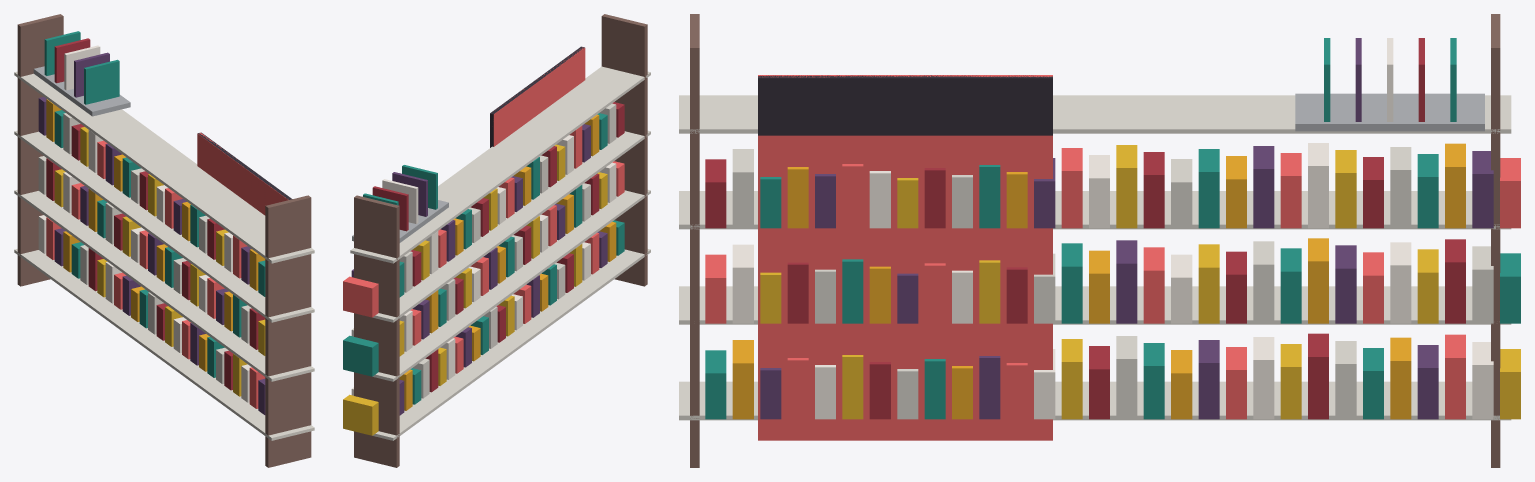
The model's file is record_wall_shelf.glb.
3 views of the same model, side by side, from view 1: azimuth 30°, elevation 25°; view 2: azimuth 150°, elevation 25°; view 3: azimuth 270°, elevation 25° (orthographic). The views are drawn at different scales.
Parts seen in each view (by area): view 1: upright_-1900, shelf_3, upright_1900, shelf_1, shelf_0, shelf_2, poster_panel, display_lp_0, display_row, display_lp_4, display_lp_3, display_lp_2 (+75 smaller); view 2: shelf_3, upright_1900, upright_-1900, shelf_1, shelf_0, shelf_2, poster_panel, spine_0_29, spine_2_29, spine_1_29, display_lp_2, display_lp_3 (+60 smaller); view 3: poster_panel, poster_band, shelf_3, display_row, shelf_0, shelf_2, shelf_1, upright_-1900, upright_1900, spine_1_15, spine_0_15, spine_2_15 (+87 smaller).
Boxes of the visible parts, <box> form: upright_-1900: <box>265,195,311,467</box>; shelf_3: <box>14,71,314,263</box>; upright_1900: <box>17,14,63,286</box>; shelf_1: <box>14,189,314,381</box>; shelf_0: <box>14,249,314,440</box>; shelf_2: <box>14,130,314,322</box>; poster_panel: <box>197,132,288,215</box>; display_lp_0: <box>84,59,119,104</box>; display_row: <box>33,66,130,116</box>; display_lp_4: <box>44,31,80,75</box>; display_lp_3: <box>54,38,90,83</box>; display_lp_2: <box>64,45,100,90</box>; shelf_3: <box>350,66,650,263</box>; upright_1900: <box>354,195,399,467</box>; upright_-1900: <box>601,14,647,286</box>; shelf_1: <box>372,190,650,381</box>; shelf_0: <box>372,249,650,440</box>; shelf_2: <box>373,130,650,322</box>; poster_panel: <box>493,47,585,146</box>; spine_0_29: <box>343,394,378,435</box>; spine_2_29: <box>343,276,378,317</box>; spine_1_29: <box>343,335,378,376</box>; display_lp_2: <box>382,179,418,223</box>; display_lp_3: <box>372,186,408,231</box>; poster_panel: <box>758,75,1052,440</box>; poster_band: <box>758,75,1052,135</box>; shelf_3: <box>679,95,1511,133</box>; display_row: <box>1295,93,1484,131</box>; shelf_0: <box>679,381,1511,420</box>; shelf_2: <box>679,191,1511,229</box>; shelf_1: <box>679,286,1511,324</box>; upright_-1900: <box>690,14,699,467</box>; upright_1900: <box>1491,14,1500,467</box>; spine_1_15: <box>1116,240,1137,323</box>; spine_0_15: <box>1116,336,1137,419</box>; spine_2_15: <box>1116,145,1137,228</box>.
Bounding box in the file's own units: 0.44 × 2.2 × 4.
